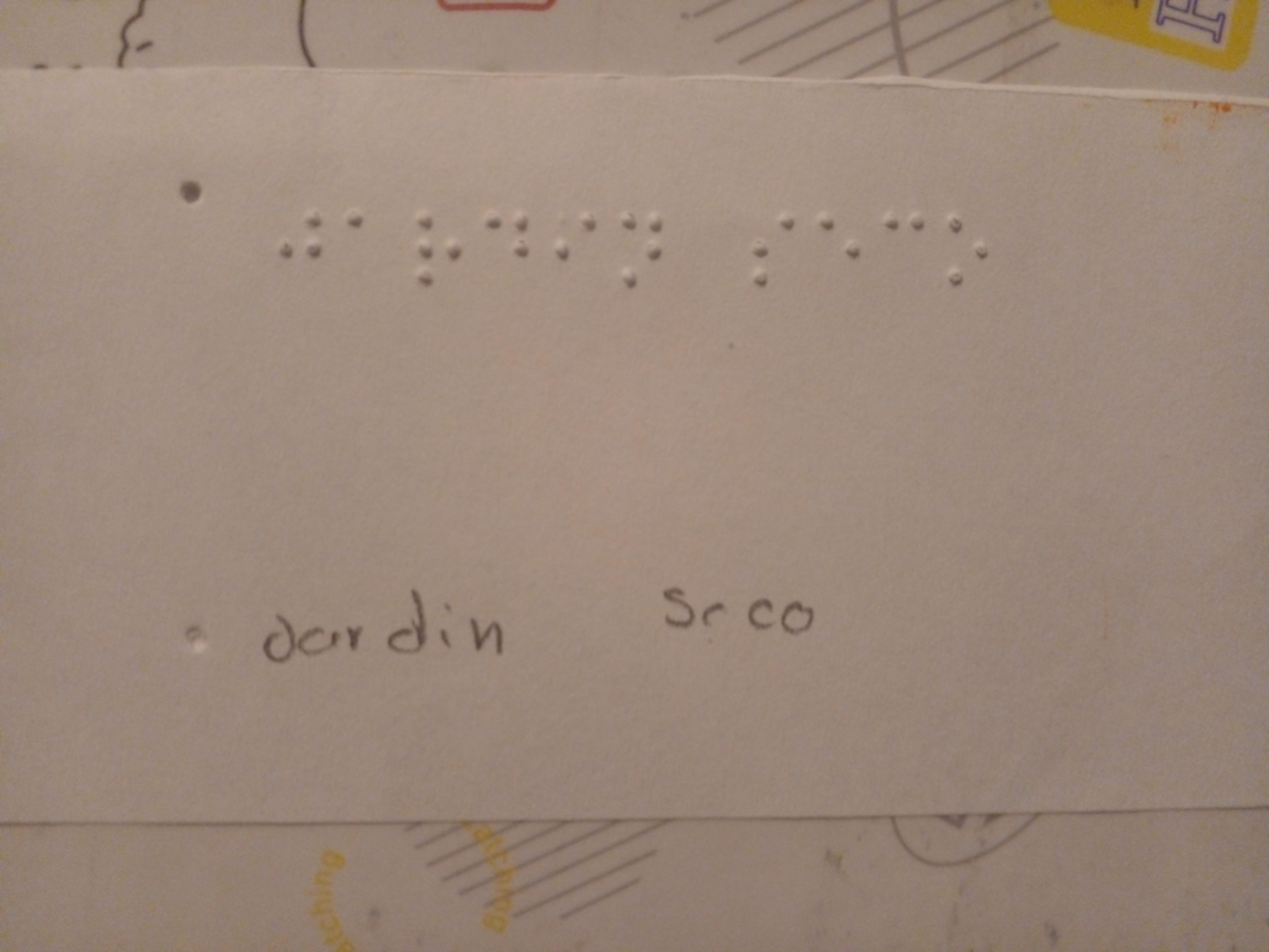a: (328, 192, 376, 249)
c: (875, 206, 929, 256)
d: (483, 200, 538, 274)
e: (804, 206, 874, 271)
i: (550, 208, 603, 270)
j: (271, 186, 333, 285)
n: (609, 203, 678, 294)
o: (943, 208, 991, 299)
r: (400, 211, 466, 299)
s: (736, 203, 804, 310)
